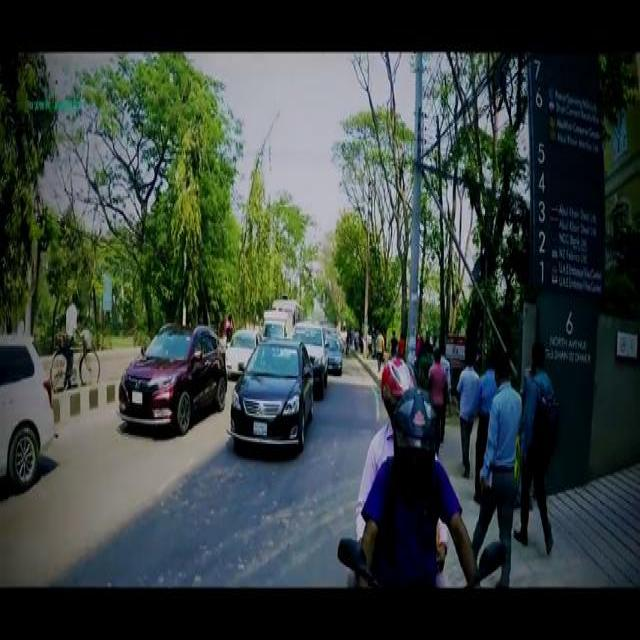11: (290, 319, 328, 396), (262, 307, 290, 337)
5: (116, 321, 226, 426), (228, 334, 312, 445), (0, 331, 56, 477), (223, 326, 260, 371), (326, 331, 342, 370)
Motorcycle: (49, 334, 100, 392)
Truck: (270, 297, 304, 318)
